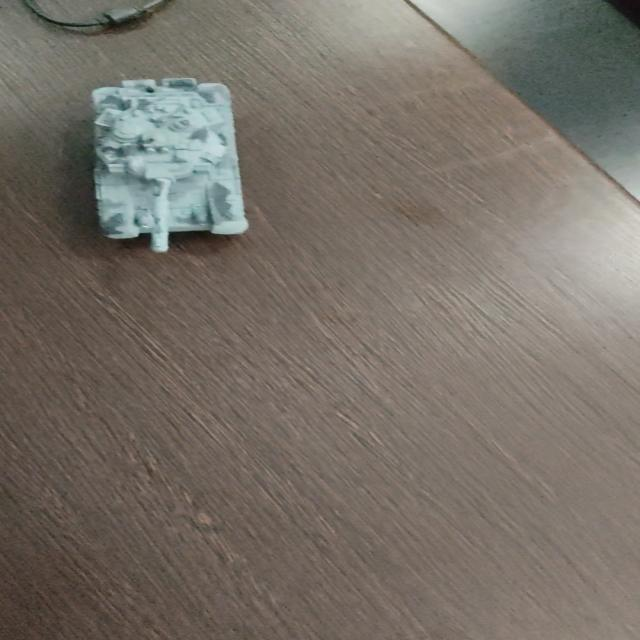tank: (84, 68, 254, 265)
